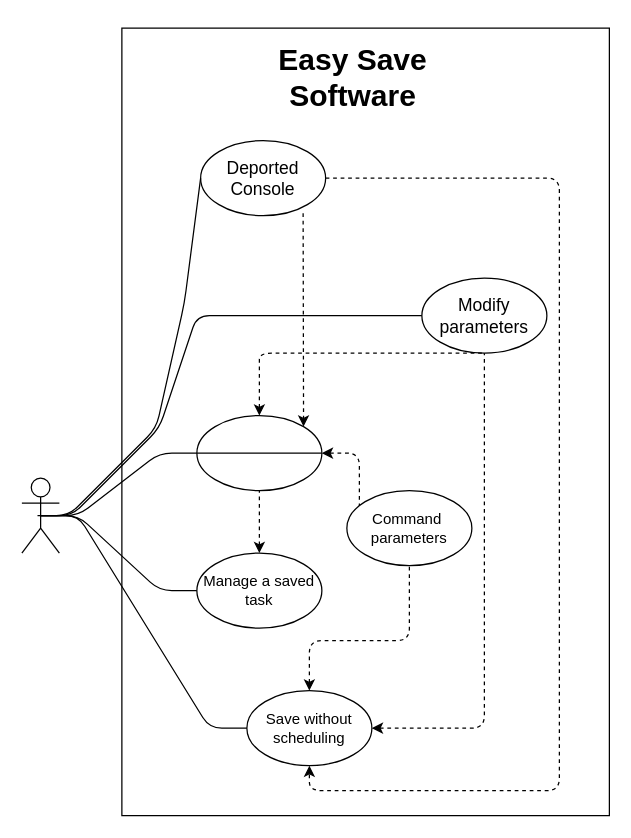
The diagram is 631 pixels wide and 838 high, and some of its shapes have lost their labels. Each missing label, with the box of its shape:
Plan a task Unlimited task: (196, 414, 322, 491)
User: (21, 477, 59, 553)
